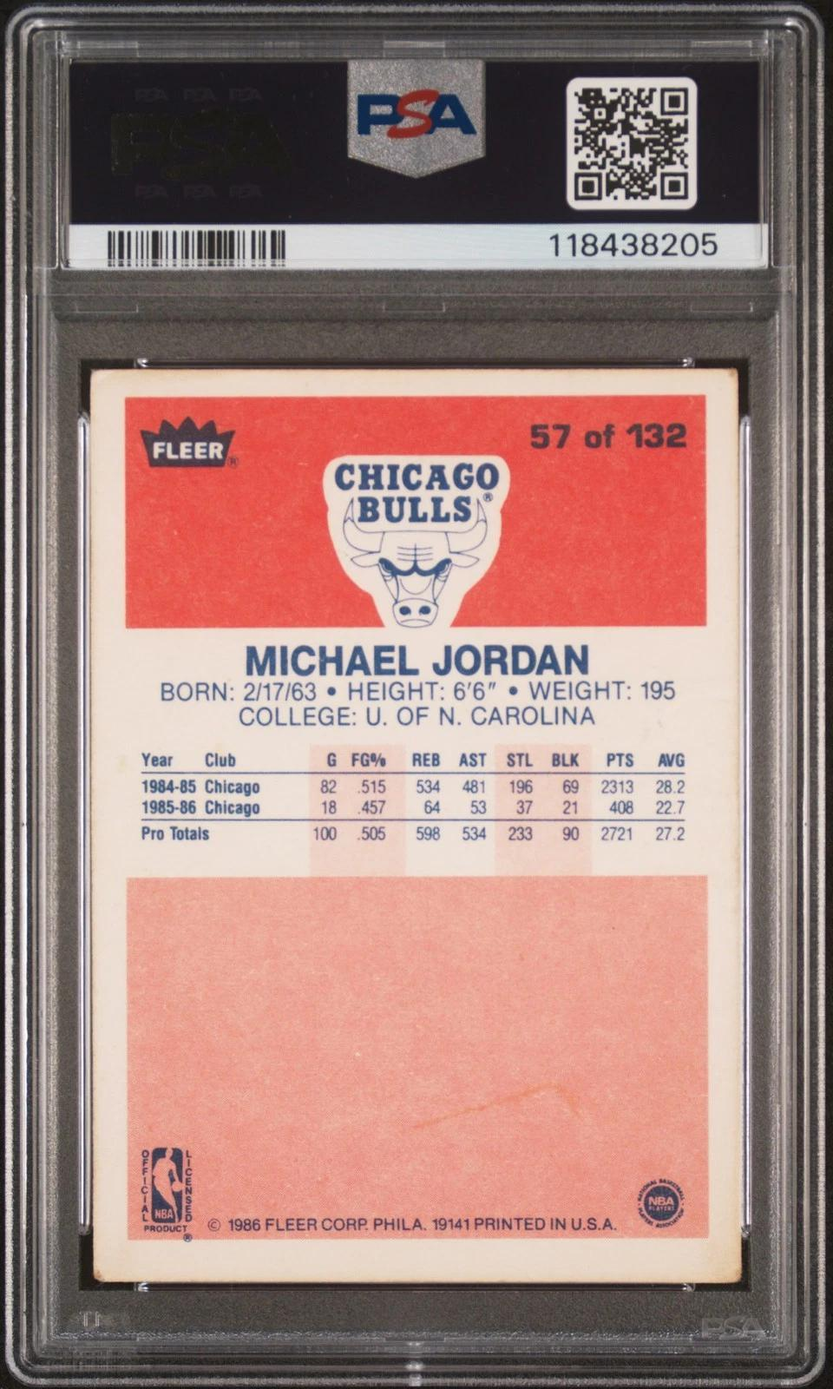card-2UtV: (90, 366, 744, 1284)
